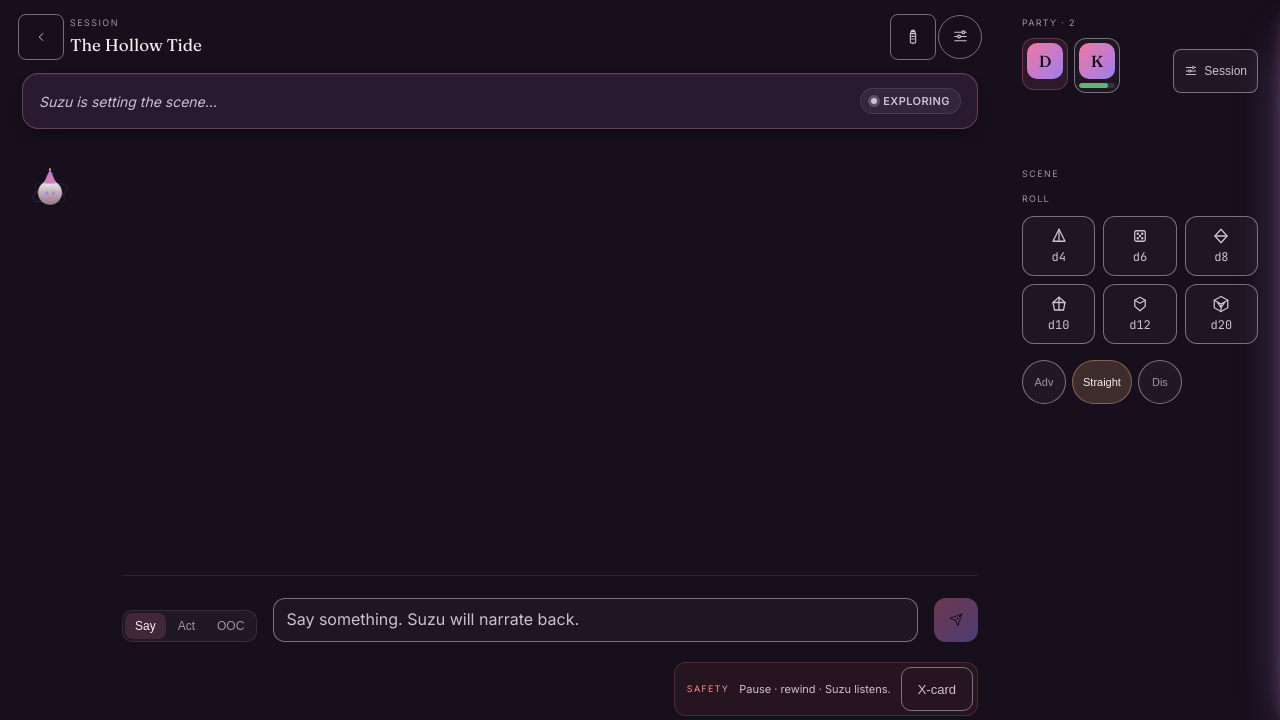
Scenario: /play real-page: live regions survive a layout flip (never remount) › AI assist full (NarratorStrip is the announcer): every live region is the same node after Story -> Table -> Auto
expect the text "The Hollow Tide" is shown: met, box [70,32,202,57]
Click the button named "Appearance settings" at [960, 36], box [938,14,982,58]
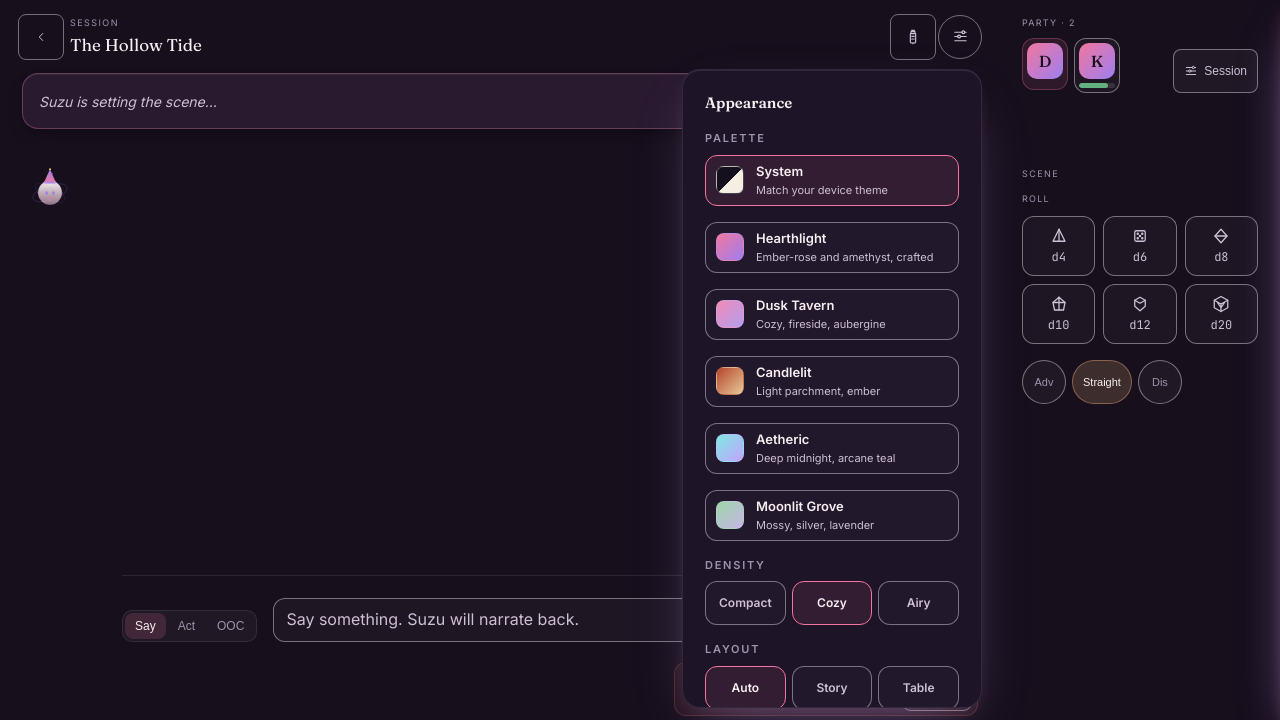
Click the radio button labelled "Table" at [919, 688], box [878,666,959,710]
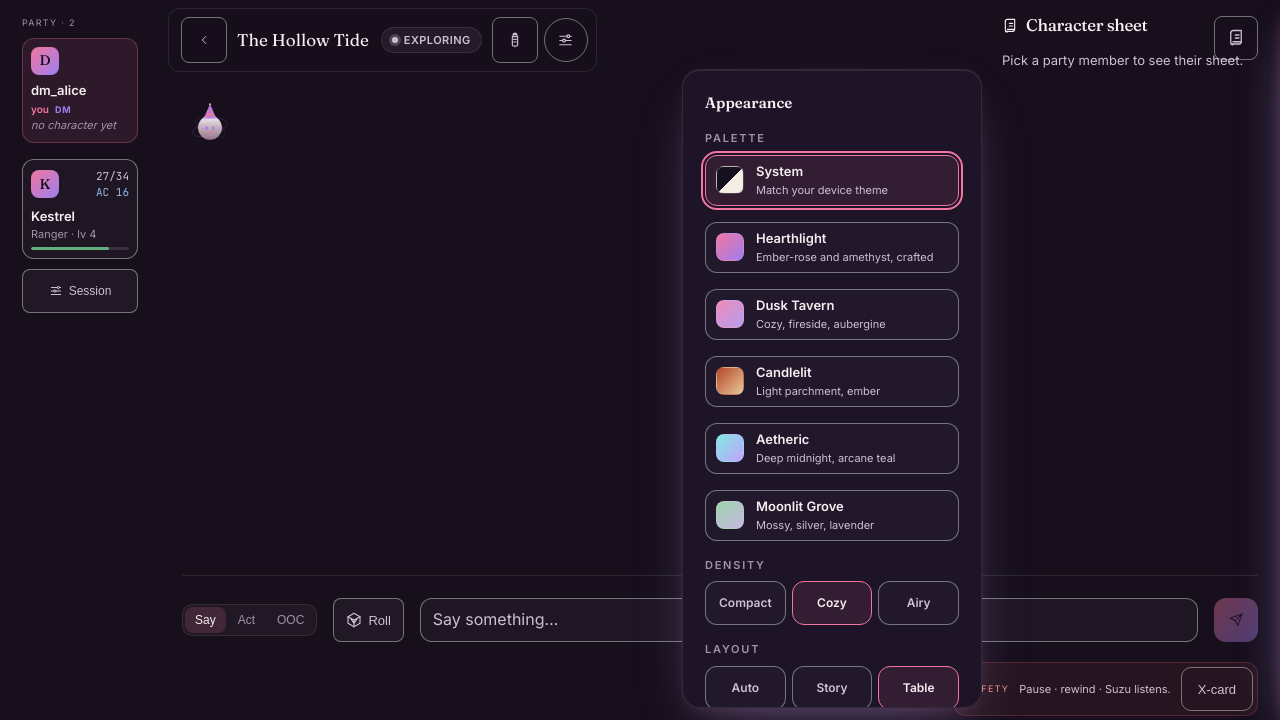
expect the element that starts with "Skip to actions" has attribute data-layout-resolved="table": met
Press Escape in the dialog "Appearance", box [682,68,982,708]
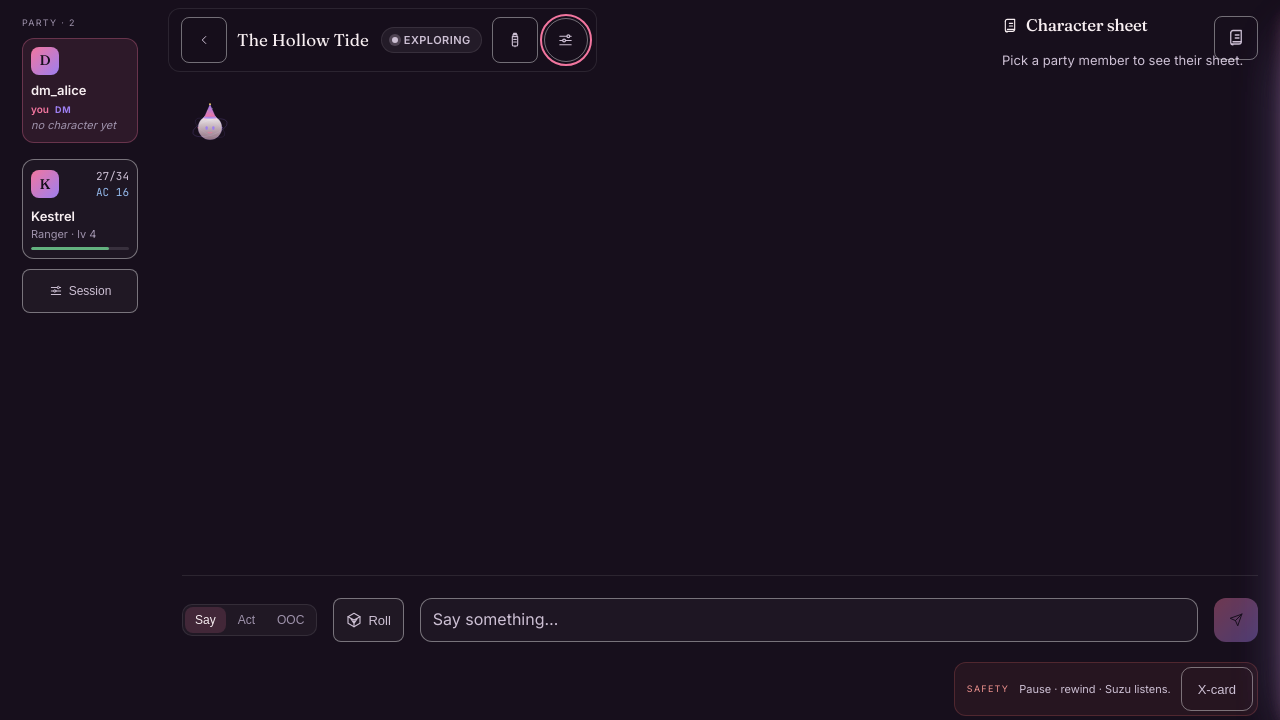
expect the text "Appearance" is gone: met
Click the button named "Appearance settings" at [566, 40], box [544,18,588,62]
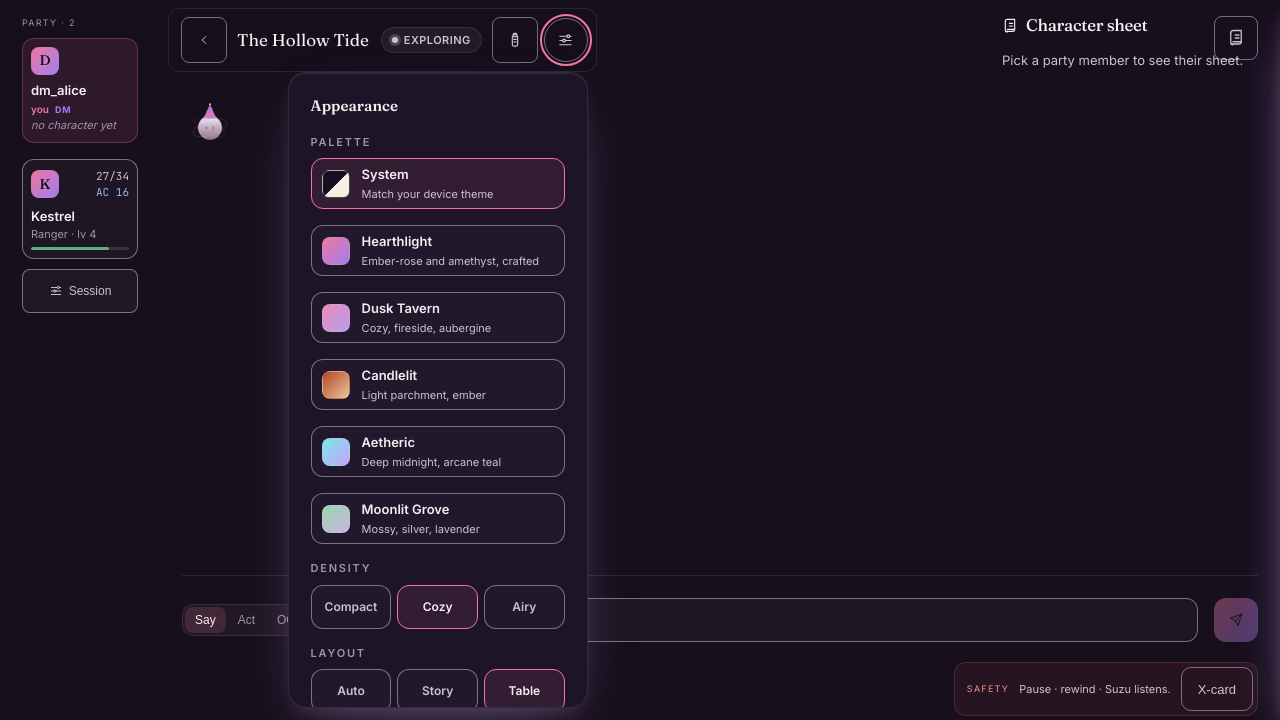
Click the radio button labelled "Auto" at [351, 691], box [311,669,391,713]
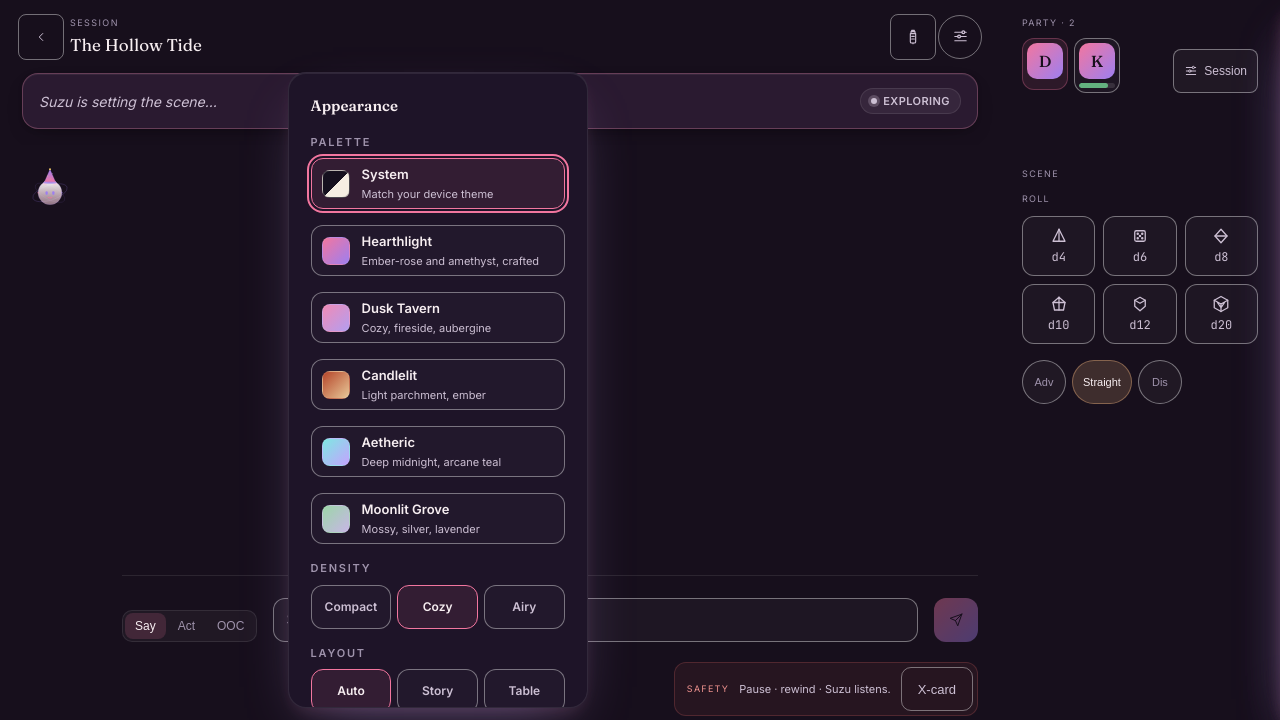
expect the element that starts with "Skip to actions" has attribute data-layout-resolved="story": met
Press Escape in the dialog "Appearance", box [288,72,588,708]
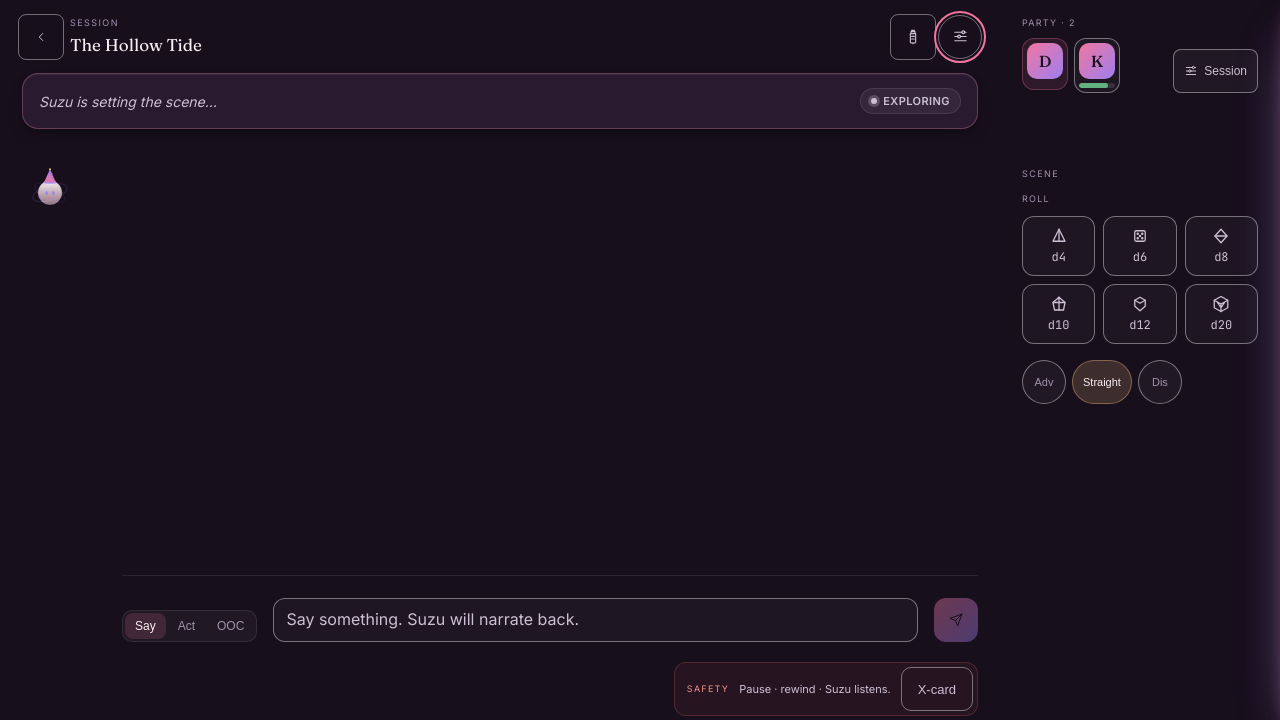
expect the text "Appearance" is gone: met
